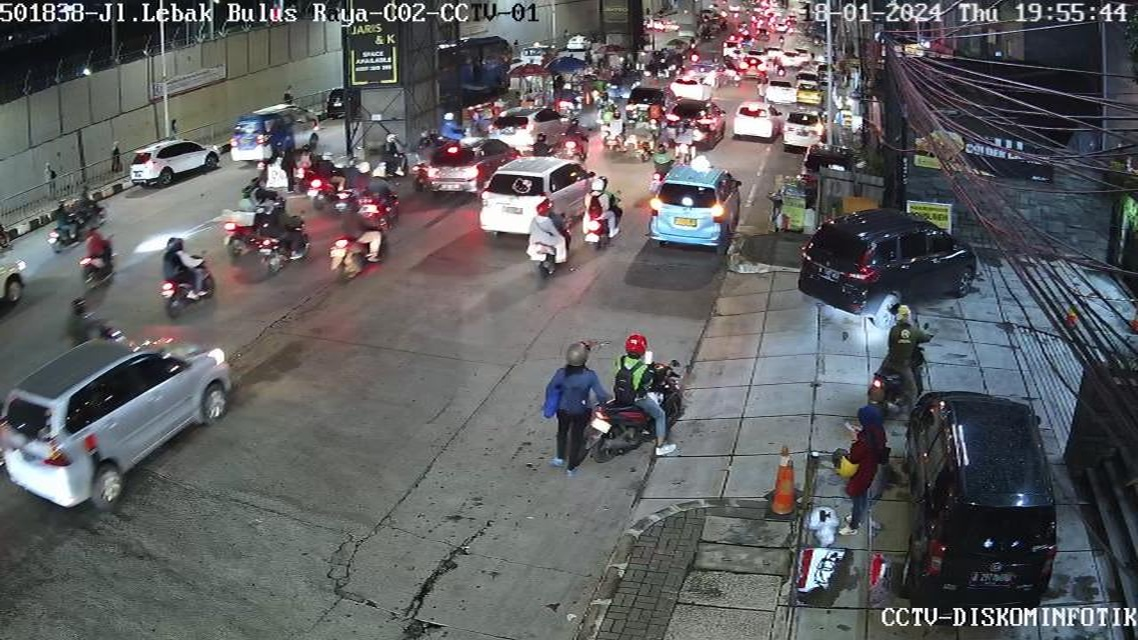Gerobak: (770, 171, 814, 234)
